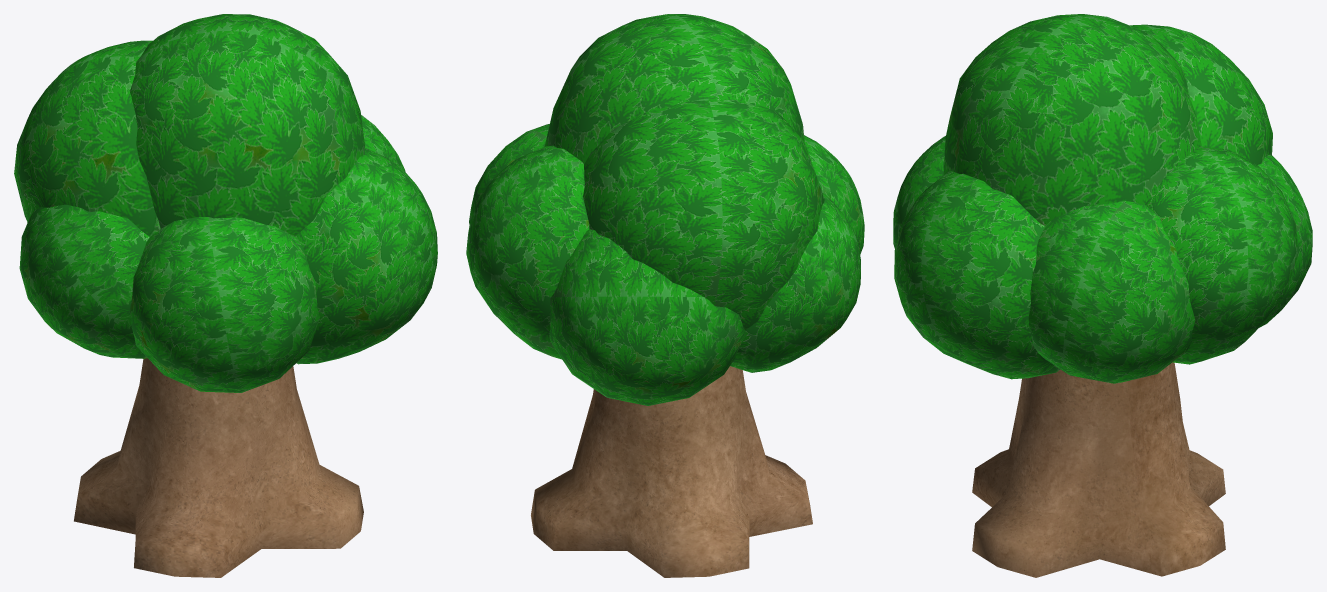
The model's file is SM_Tree_01.fbx.
3 views of the same model, side by side, from view 1: azimuth 30°, elevation 25°; view 2: azimuth 150°, elevation 25°; view 3: azimuth 270°, elevation 25° (orthographic). The views are drawn at different scales.
Parts seen in each view (by area): view 1: SM_Tree_01; view 2: SM_Tree_01; view 3: SM_Tree_01.
Boxes of the visible parts, x1,y1,x2,y2 form: SM_Tree_01: (14,14,437,577); SM_Tree_01: (466,14,864,577); SM_Tree_01: (893,14,1312,577).
Size of the model in its own units: 63.45 by 81.68 by 62.22.
